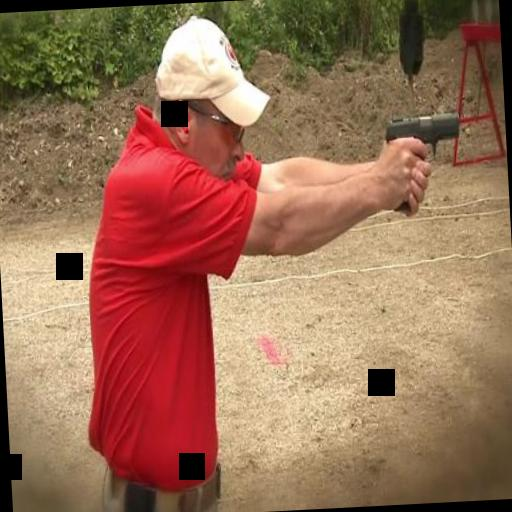Handgun: (382, 109, 464, 216)
